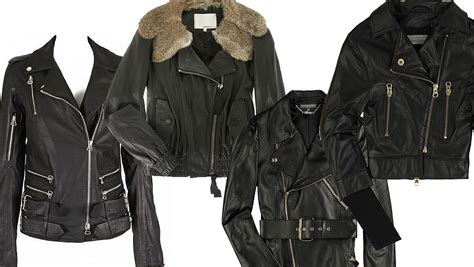cuero: (1, 1, 473, 267)
